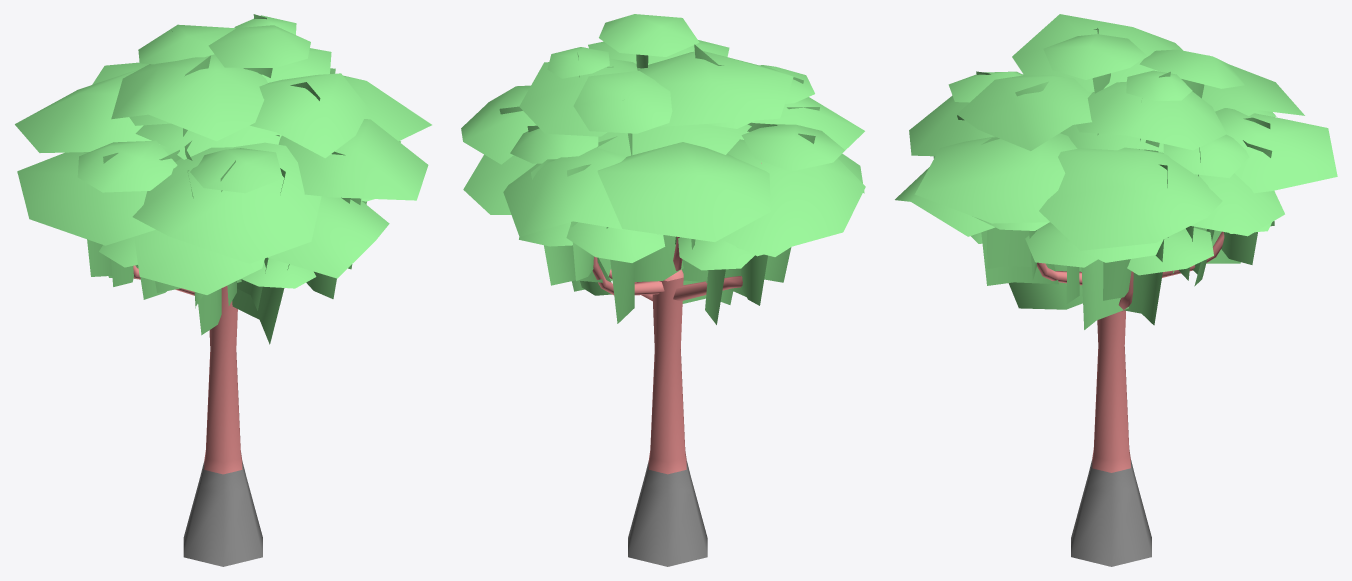
The model's file is PriPlain_tree01.gltf.
The picture shows the model from 3 angles, left to right: view 1: azimuth 30°, elevation 25°; view 2: azimuth 150°, elevation 25°; view 3: azimuth 270°, elevation 25°; orthographic projection.
Visible parts, largest first — view 1: PriPlain_tree01; view 2: PriPlain_tree01; view 3: PriPlain_tree01.
Boxes of the visible parts, box(x1,y1,x2,y2) form: PriPlain_tree01: box(15, 14, 431, 566); PriPlain_tree01: box(461, 14, 865, 566); PriPlain_tree01: box(895, 14, 1337, 566).
Size of the model in its own units: 5.86 by 7.61 by 5.85.
